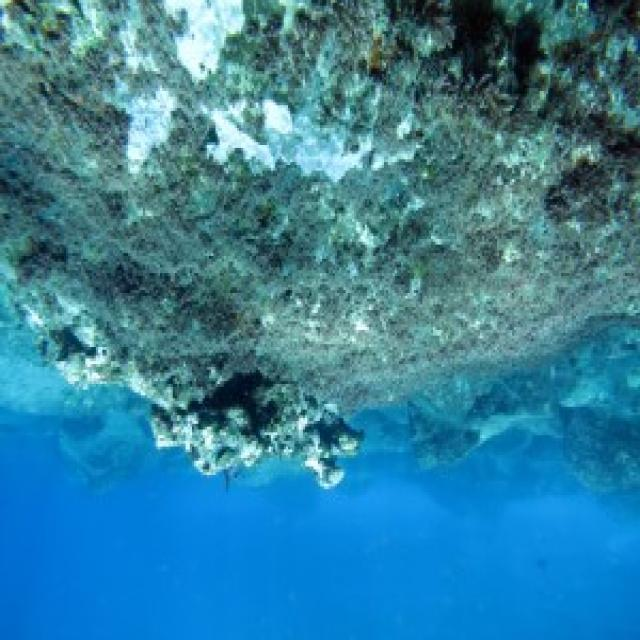Bleached: (204, 92, 420, 182), (2, 1, 161, 71), (168, 1, 247, 79), (122, 92, 177, 171)
Healthy: (2, 186, 640, 391), (425, 1, 640, 182), (151, 382, 362, 495), (256, 3, 421, 85), (1, 71, 117, 181)
